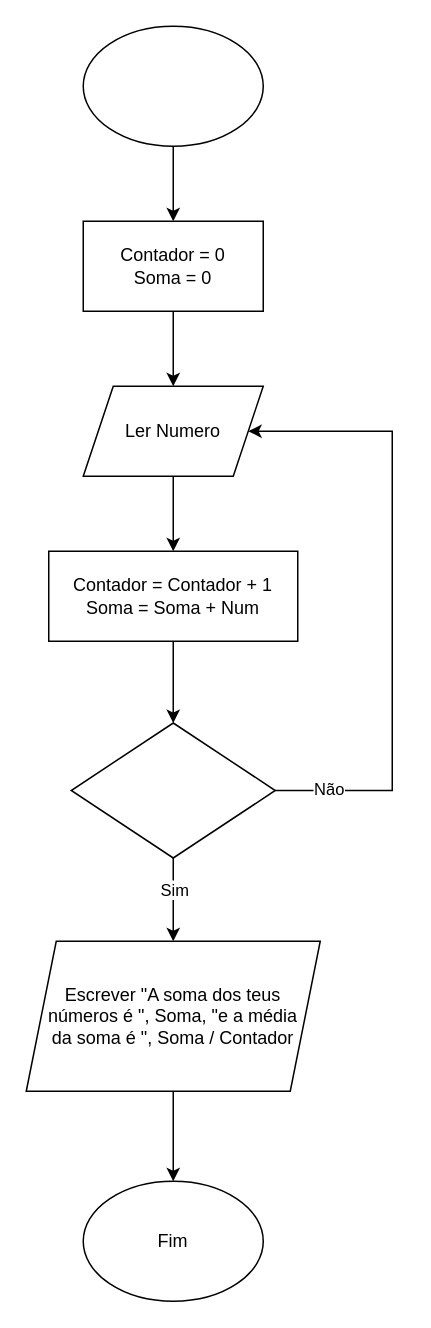
This 431x1328 diagram has some shape labels left out. The centre of each missing label's shape, as x and y in pixels:
"Início" goes at (172,85).
"Soma > 1000" goes at (172,790).
